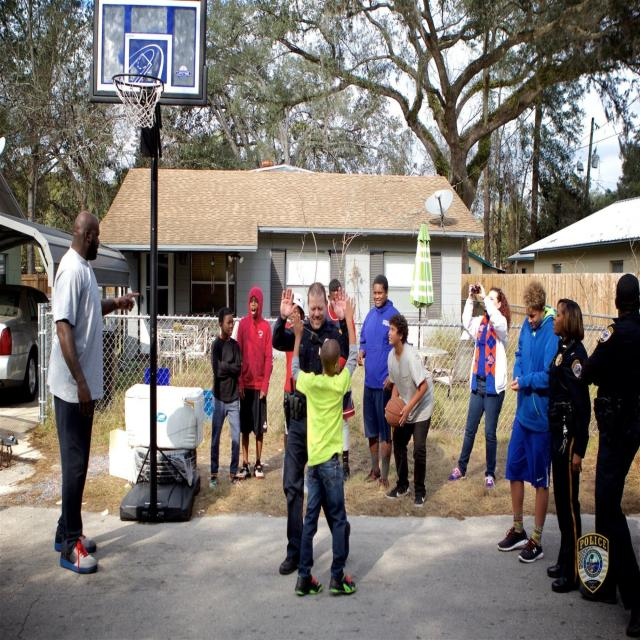body: (45, 207, 142, 576), (270, 280, 352, 577), (578, 270, 640, 640), (290, 295, 359, 597), (496, 278, 562, 564), (546, 296, 592, 597), (447, 282, 513, 490), (355, 272, 409, 497), (383, 310, 436, 511), (206, 302, 246, 493), (235, 286, 273, 480), (324, 279, 356, 483), (283, 292, 306, 459)
